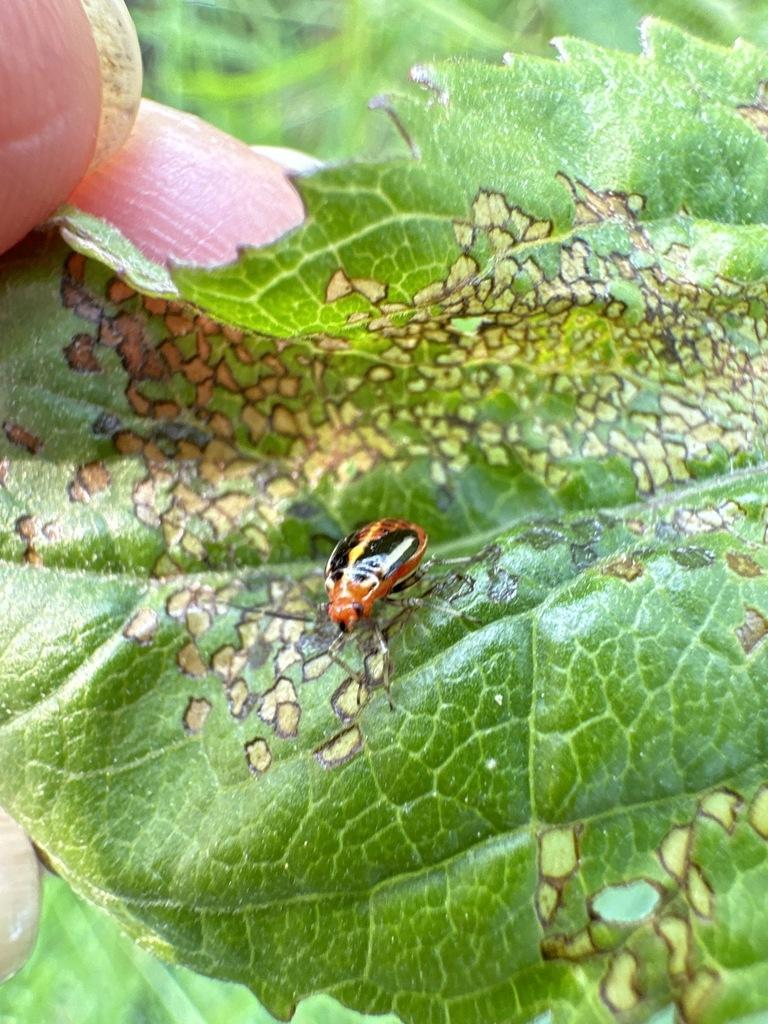plant_bugs: (288, 496, 483, 726)
